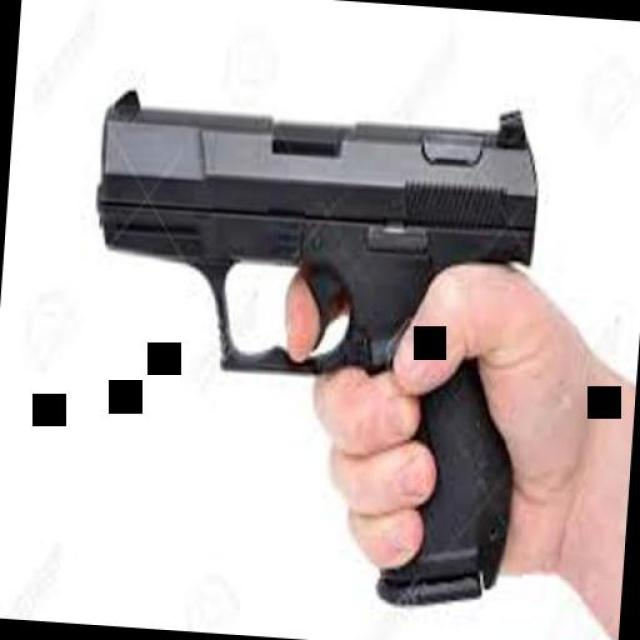gun: (64, 84, 546, 610)
